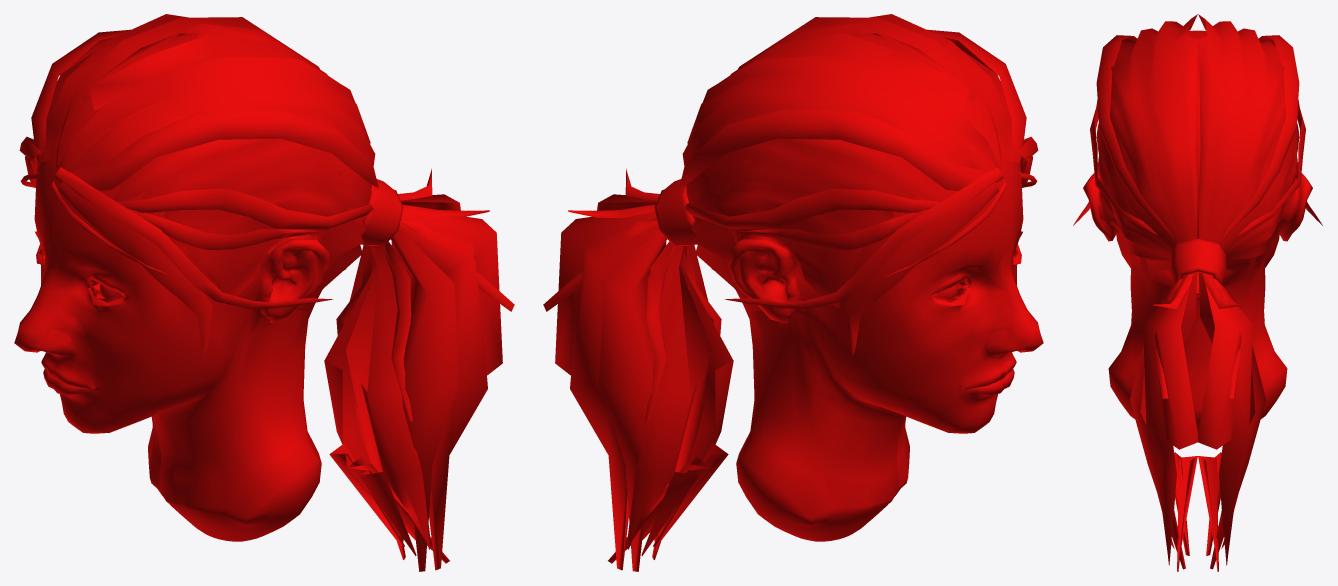
The model's file is Head.dae.
The picture shows the model from 3 angles, left to right: view 1: azimuth 30°, elevation 25°; view 2: azimuth 150°, elevation 25°; view 3: azimuth 270°, elevation 25°; orthographic projection. The views are drawn at different scales.
Parts seen in each view (by area): view 1: Head; view 2: Head; view 3: Head.
Part boxes in pixels (box(x1,y1,x2,y2)): Head: box(14, 14, 514, 571); Head: box(543, 14, 1043, 571); Head: box(1073, 14, 1322, 571).
Size of the model in its own units: 0.3132 by 0.1841 by 0.3682.
